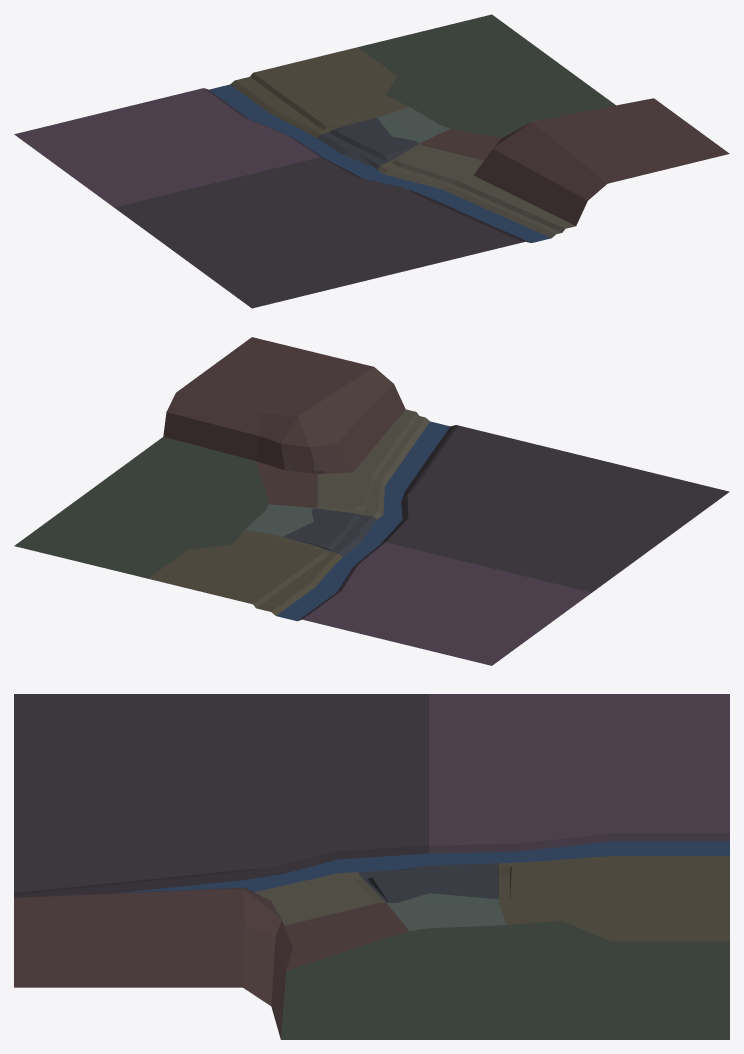
The model's file is GroundMesh.fbx.
3 renders of one model, top to bottom at view 1: azimuth 30°, elevation 25°; view 2: azimuth 150°, elevation 25°; view 3: azimuth 270°, elevation 25°, orthographic. The views are drawn at different scales.
Parts seen in each view (by area): view 1: Ground; view 2: Ground; view 3: Ground.
Boxes of the visible parts, bbox=[...] form: Ground: bbox=[14, 14, 729, 308]; Ground: bbox=[14, 337, 729, 665]; Ground: bbox=[14, 694, 729, 1039].
Bounding box in the file's own units: 22804 × 2156 × 19668.
